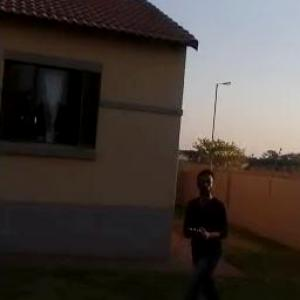follow: (169, 158, 236, 299)
